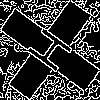H: (25, 25, 83, 81)
